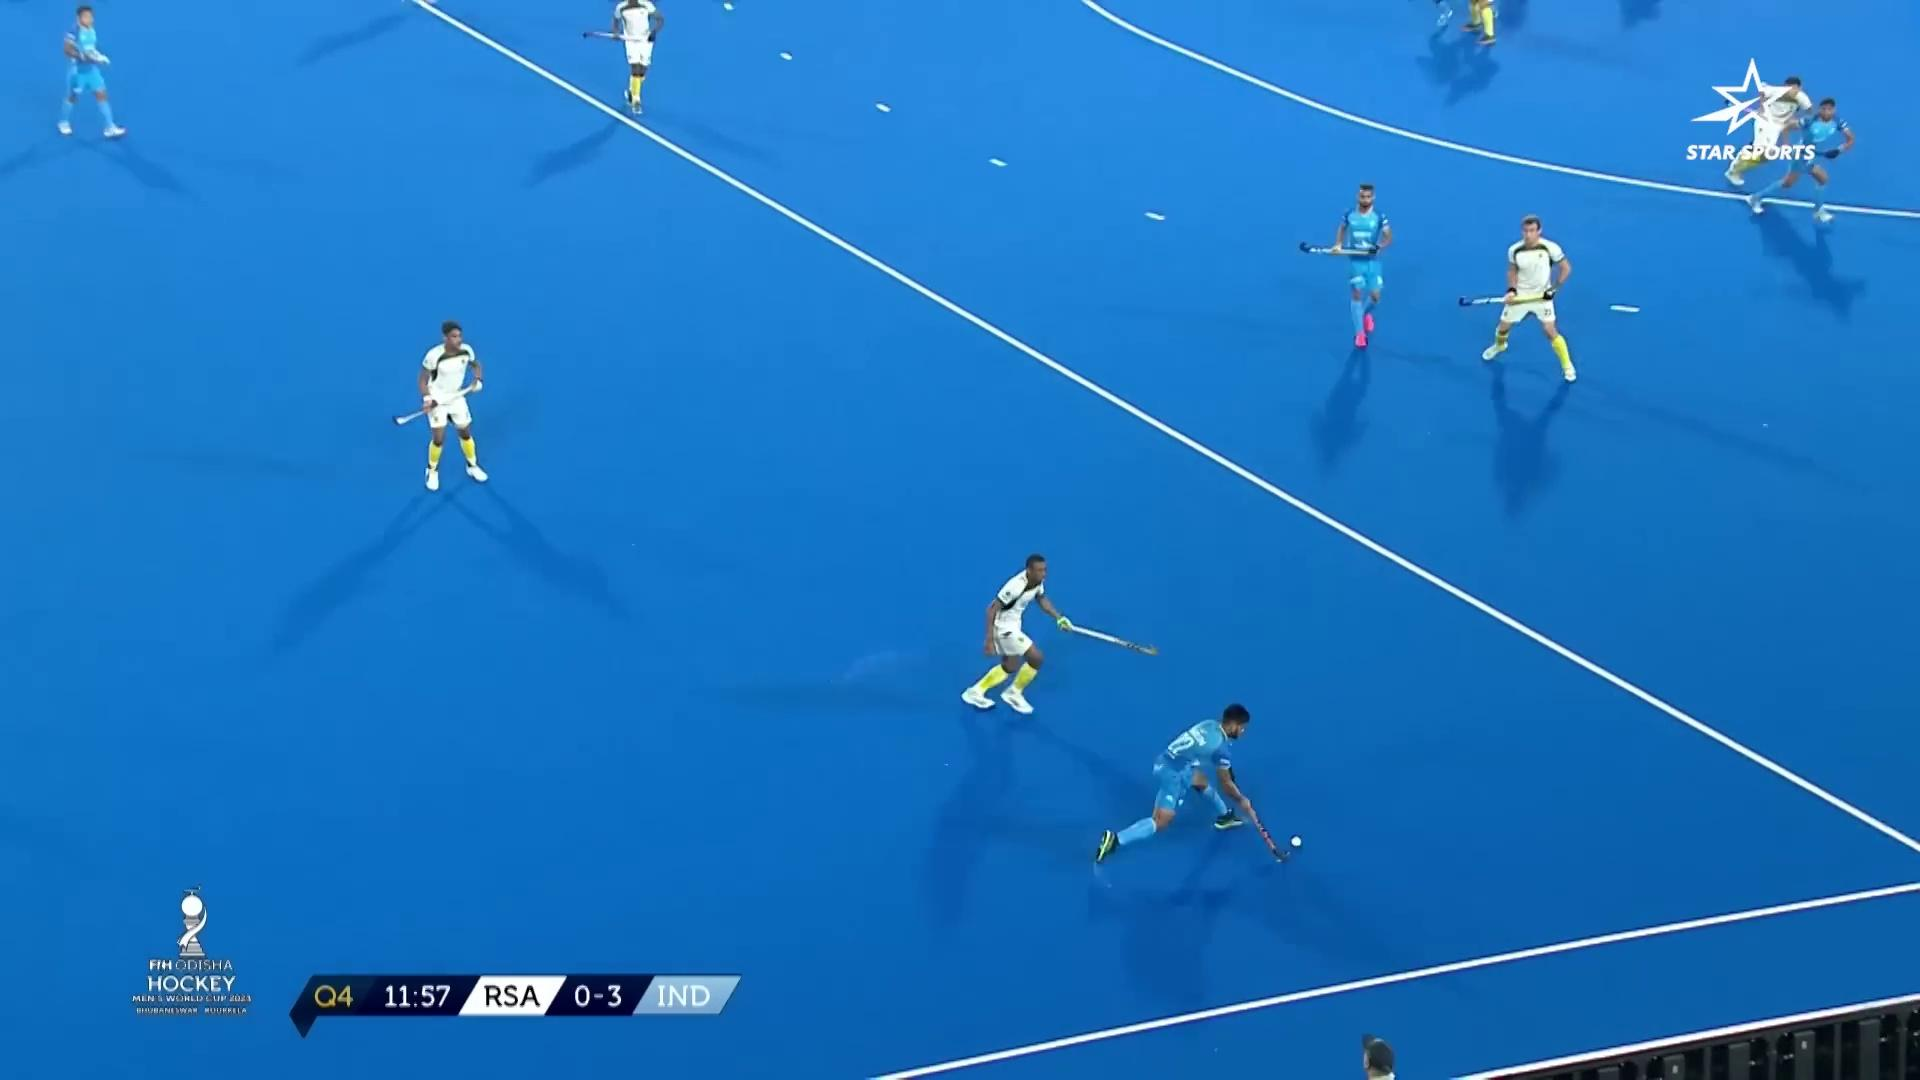ball: (1275, 822, 1323, 851)
